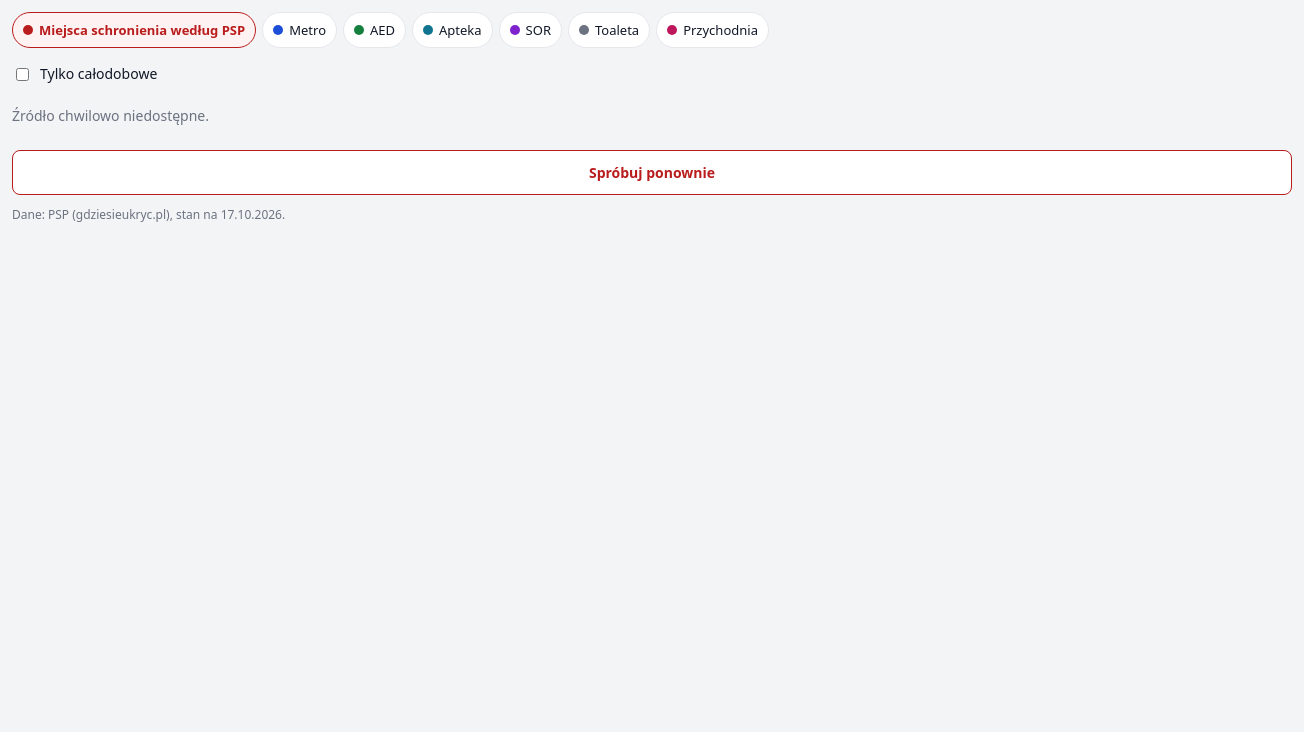
Scenario: błąd źródła: komunikat i ponowna próba
Expected: the text "Źródło chwilowo niedostępne." is shown, [12,106,209,125]
Click the button "Spróbuj ponownie". click: point(652, 172)
box: [12,150,1292,195]
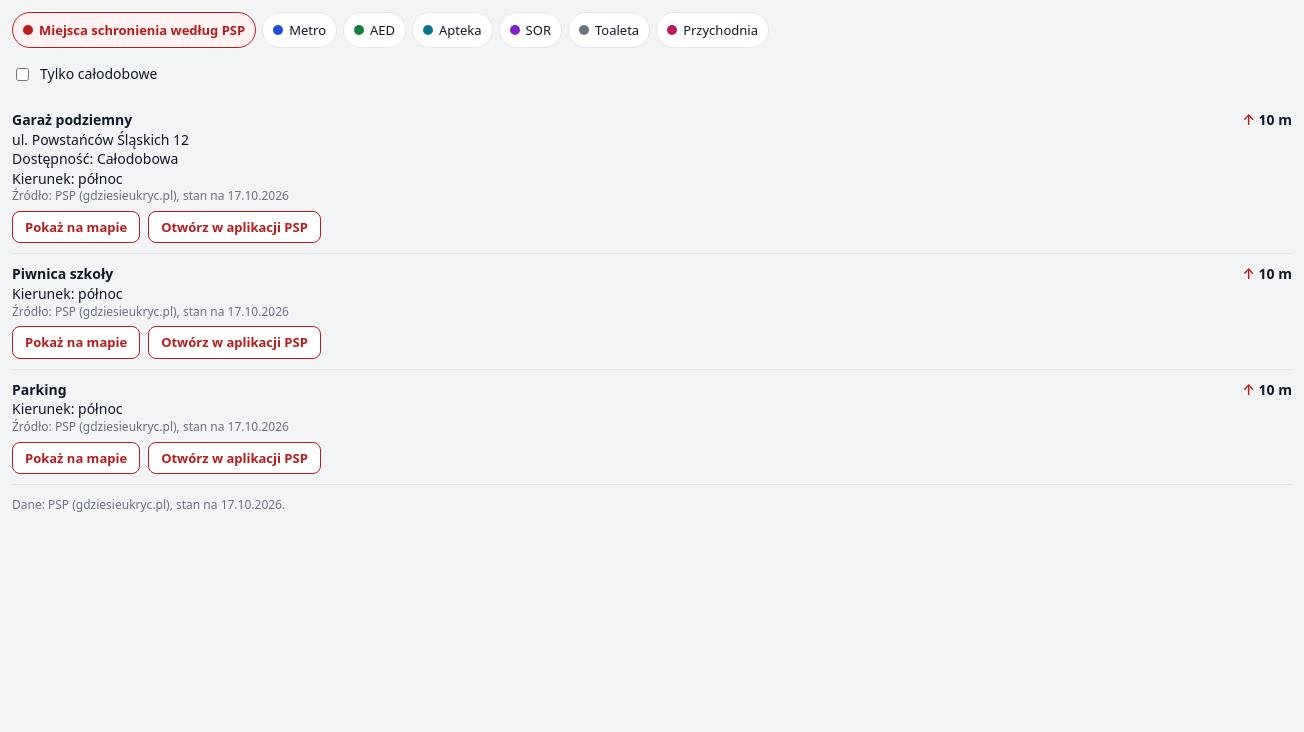
Expected: the list with test id "lista-punktow" is shown, [12,100,1292,485]
